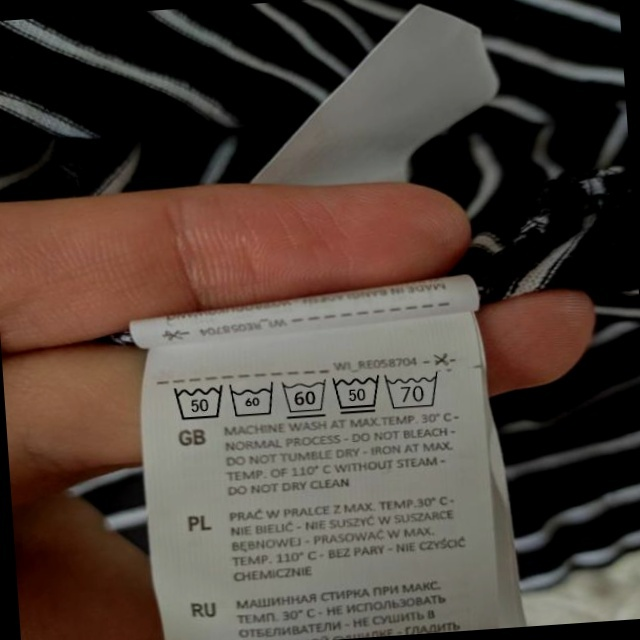50C: (173, 378, 228, 425), (333, 372, 384, 416)
60C: (280, 377, 332, 420), (228, 380, 279, 419)
70C: (385, 369, 444, 415)
